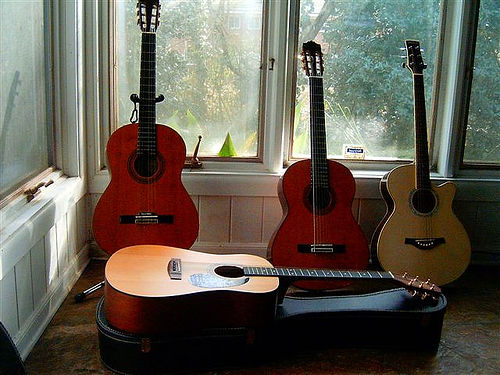guitar: (103, 248, 444, 337), (88, 1, 201, 253), (265, 38, 370, 277), (374, 41, 472, 292)
